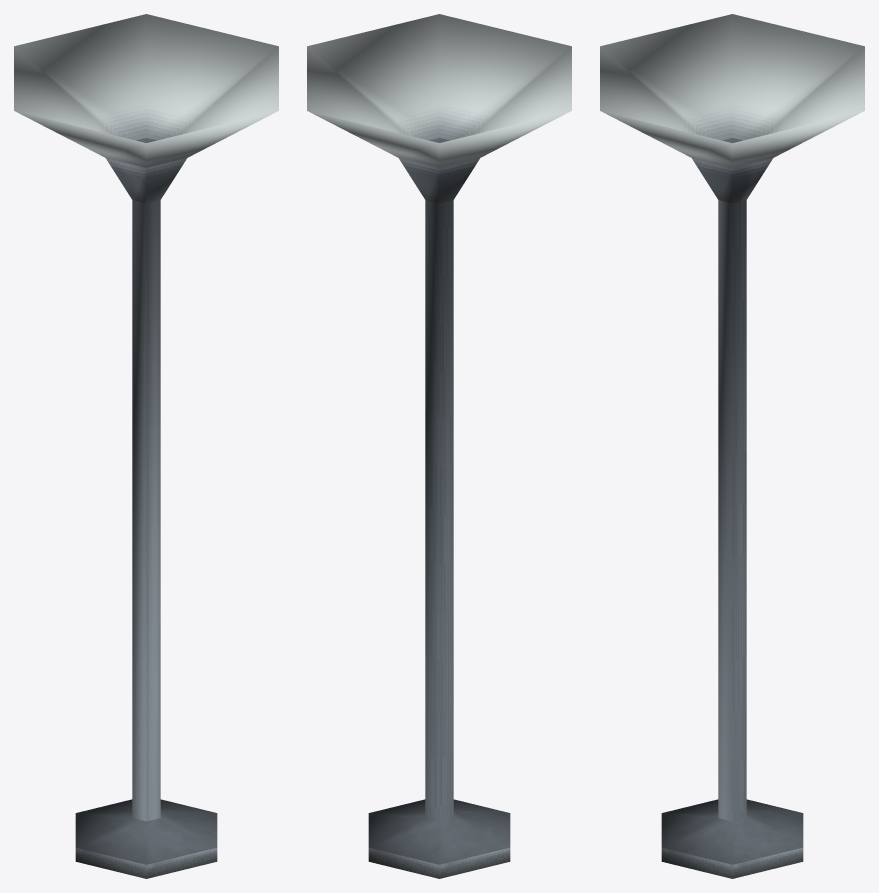
The model's file is torchlamp.fbx.
3 views of the same model, side by side, from view 1: azimuth 30°, elevation 25°; view 2: azimuth 150°, elevation 25°; view 3: azimuth 270°, elevation 25° (orthographic).
Visible parts, largest first — view 1: lamp; view 2: lamp; view 3: lamp.
Part boxes in pixels (x1,y1,x2,y2): lamp: (14,14,278,878); lamp: (307,14,571,878); lamp: (600,14,864,878).
Bounding box in the file's own units: 61.75 × 171 × 53.48.
